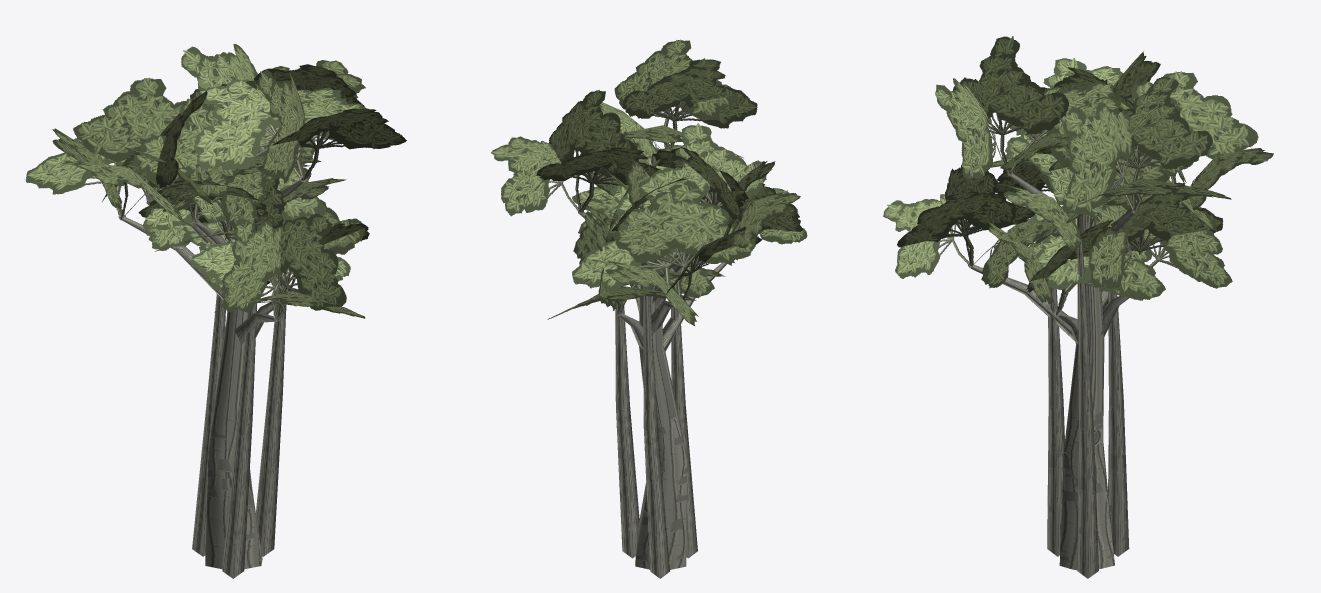
File: ashland-regrowth-near.glb
3 renders of one model, left to right at view 1: azimuth 30°, elevation 25°; view 2: azimuth 150°, elevation 25°; view 3: azimuth 270°, elevation 25°, orthographic. The views are drawn at different scales.
Parts seen in each view (by area): view 1: Ashland regrowth near v3 runtime; view 2: Ashland regrowth near v3 runtime; view 3: Ashland regrowth near v3 runtime.
Boxes of the visible parts, x1=… form: Ashland regrowth near v3 runtime: x1=25, y1=44, x2=406, y2=578; Ashland regrowth near v3 runtime: x1=491, y1=39, x2=807, y2=578; Ashland regrowth near v3 runtime: x1=883, y1=36, x2=1273, y2=578.
Size of the model in its own units: 5.08 by 7.56 by 5.71.
Materials: 1 (1 with a texture image).
